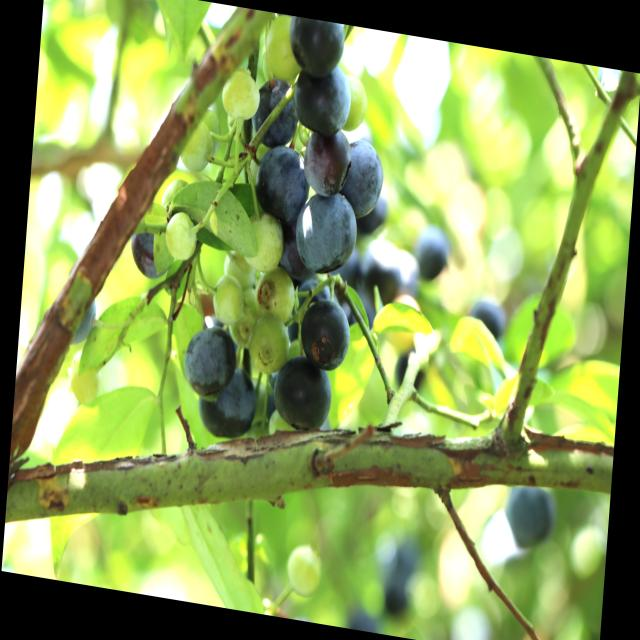blueberry: (294, 188, 358, 278), (270, 351, 335, 436), (193, 359, 258, 441), (251, 141, 308, 222), (291, 59, 349, 136), (506, 474, 560, 551), (340, 131, 386, 219), (180, 325, 238, 394), (301, 122, 351, 198), (298, 298, 350, 370), (249, 74, 300, 147), (290, 16, 346, 79), (126, 217, 176, 285), (361, 238, 403, 306), (416, 226, 454, 284), (470, 298, 511, 343)
blueberry-unripe: (241, 210, 287, 274), (245, 312, 290, 374), (264, 18, 306, 83), (218, 65, 262, 119), (255, 269, 299, 320), (284, 545, 324, 599), (163, 210, 200, 265), (211, 274, 247, 326), (181, 124, 216, 169)
